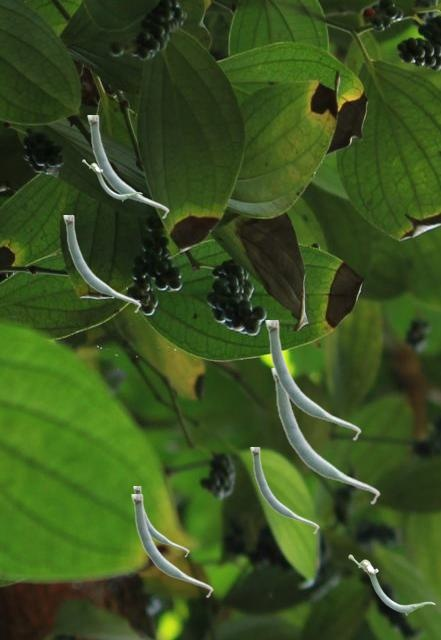french_bean: (271, 368, 379, 504), (265, 320, 360, 440), (131, 494, 212, 597), (87, 115, 168, 218), (63, 215, 140, 312), (250, 447, 318, 533), (348, 554, 434, 614), (133, 486, 188, 556), (82, 159, 141, 200)
